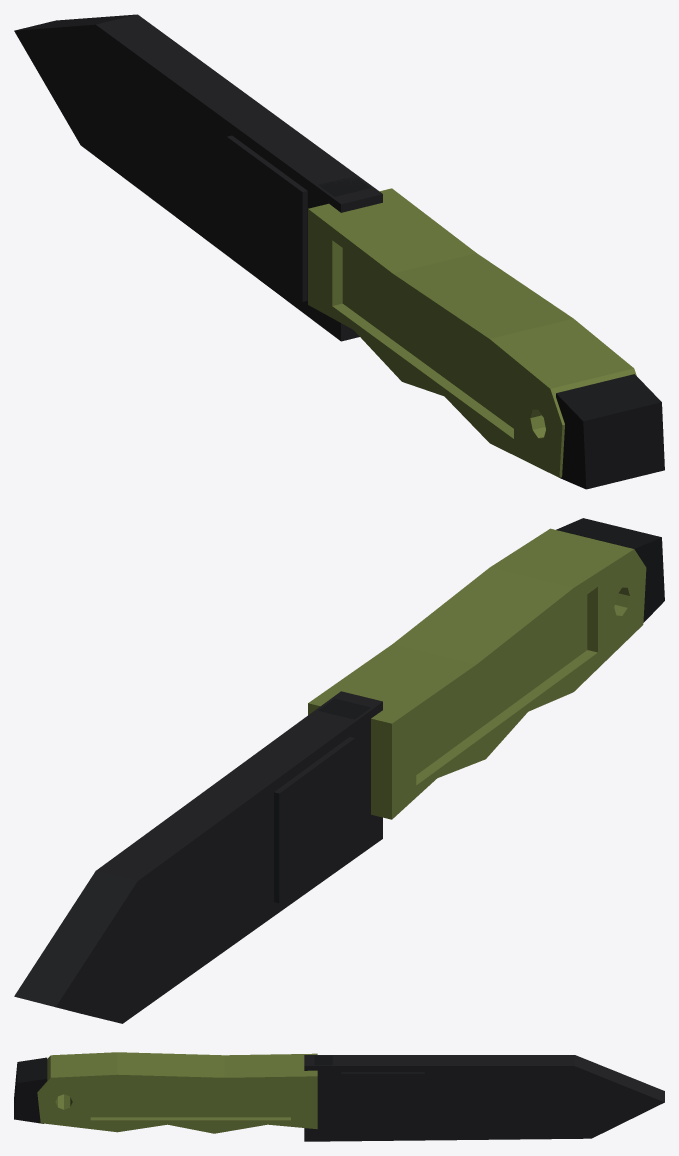
File: Knife.fbx
The picture shows the model from 3 angles, top to bottom: view 1: azimuth 30°, elevation 25°; view 2: azimuth 150°, elevation 25°; view 3: azimuth 270°, elevation 25°; orthographic projection. The views are drawn at different scales.
Visible parts, largest first — view 1: Sheath, Grip, Pommel; view 2: Sheath, Grip, Pommel; view 3: Sheath, Grip, Pommel, Guard.
Boxes of the visible parts, x1,y1,x2,y2 form: Sheath: (14, 14, 382, 341); Grip: (308, 188, 636, 477); Pommel: (556, 374, 664, 489); Sheath: (14, 691, 382, 1023); Grip: (308, 528, 646, 819); Pommel: (556, 518, 664, 622); Sheath: (304, 1055, 664, 1141); Grip: (37, 1052, 317, 1133); Pommel: (14, 1057, 47, 1123); Guard: (314, 1055, 332, 1065).
Bounding box in the file's own units: 16 × 25 × 195.
